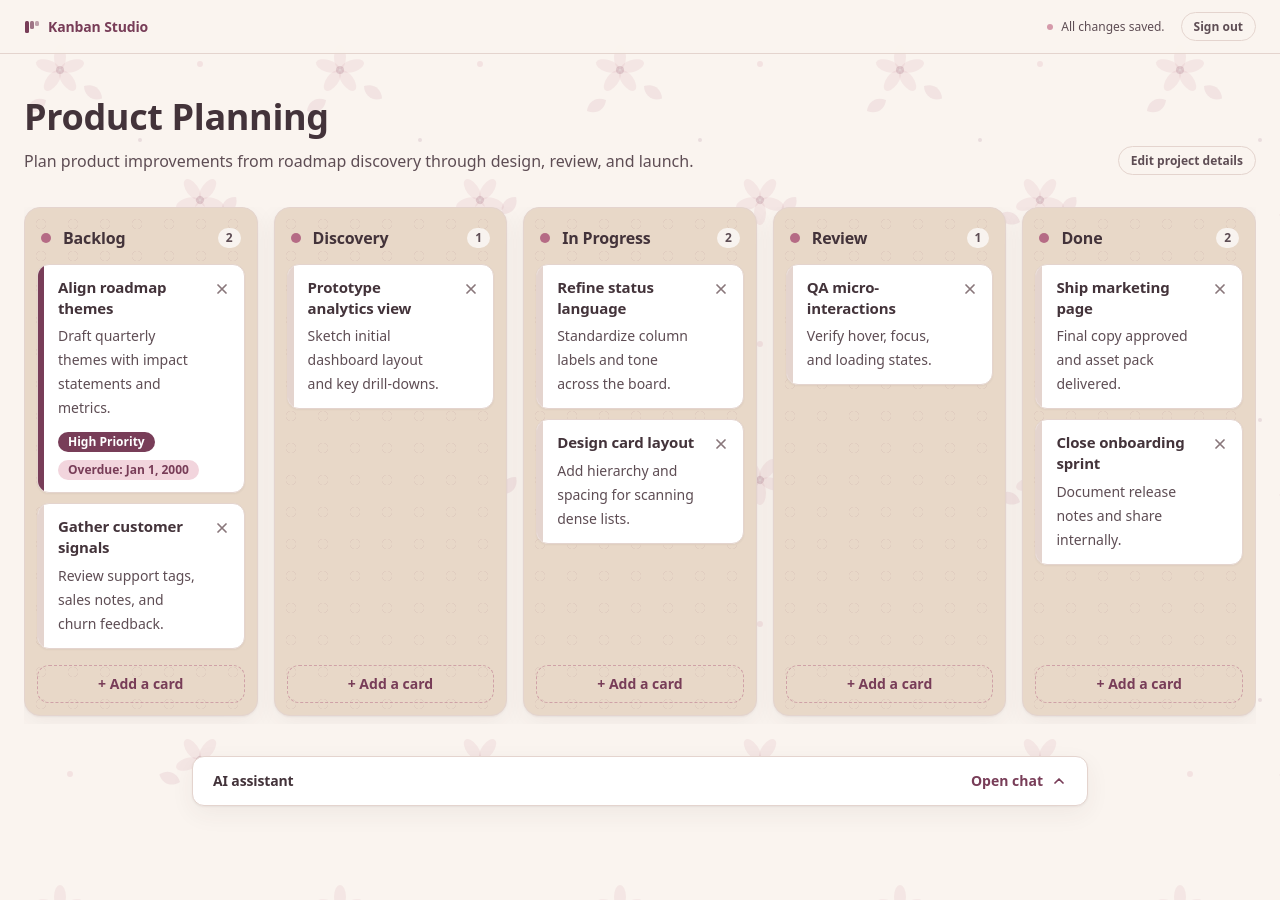
Test: KanbanBoard › edits card priority and due date and marks past dates overdue
Check: the text "Overdue: Jan 1, 2000" is shown, box [58, 460, 199, 480]
Click the button with aria-label "Edit title: Align roadmap themes" at (129, 298), box [58, 277, 200, 318]
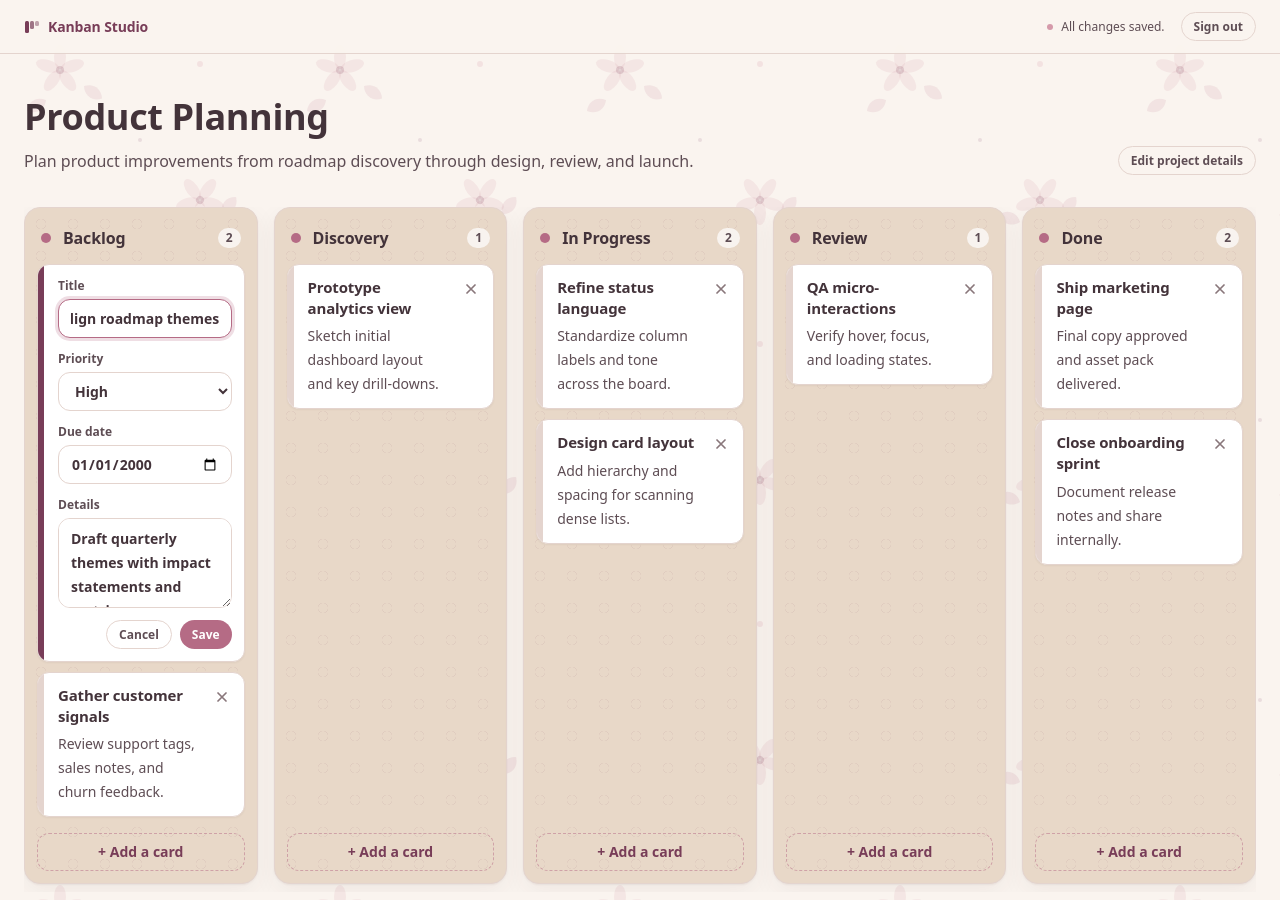
Select "Medium" in the dropdown named "Card priority" at (145, 392), box [58, 372, 232, 411]
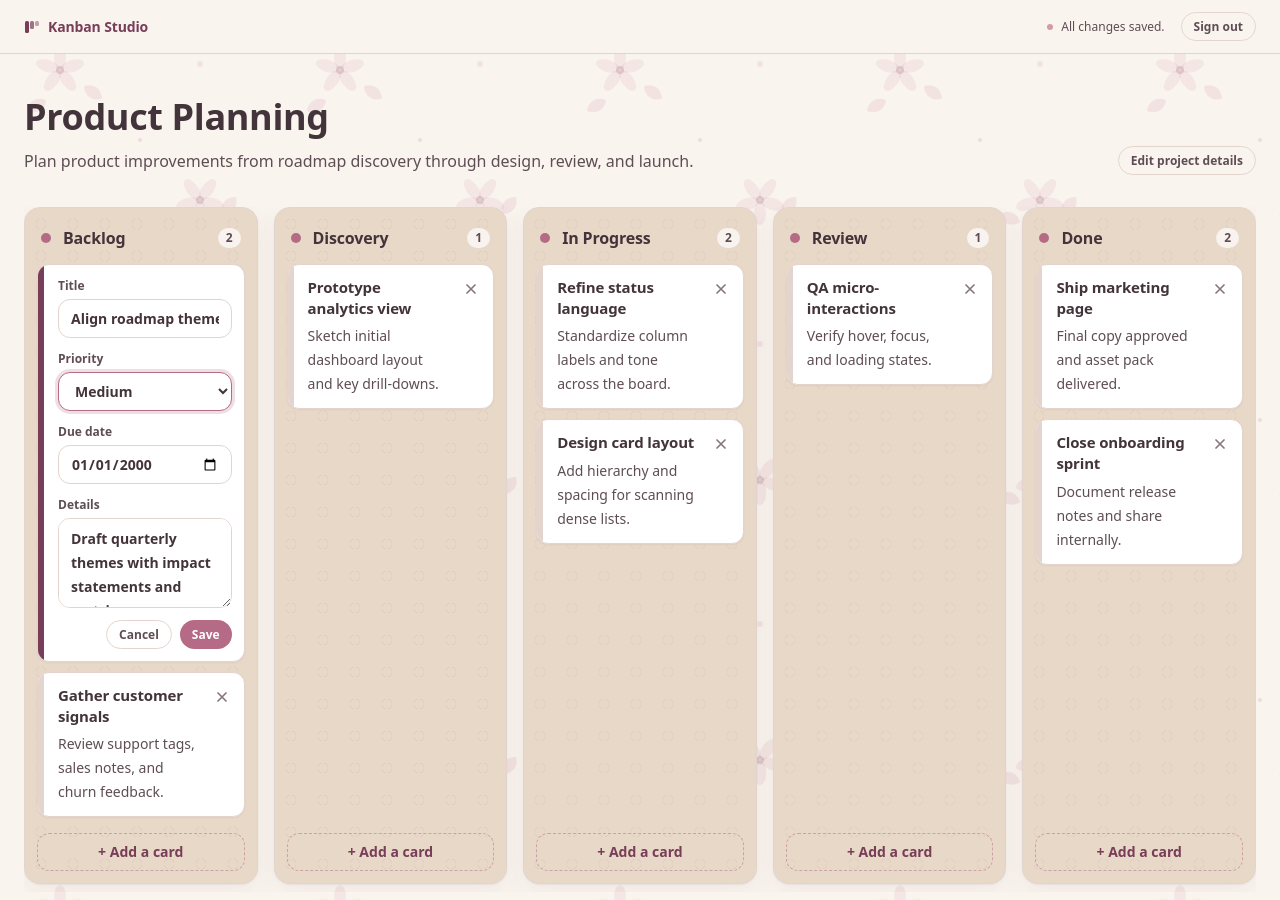
Type "2099-03-12" into the date field labelled "Due date" at (145, 464), box [58, 445, 232, 484]
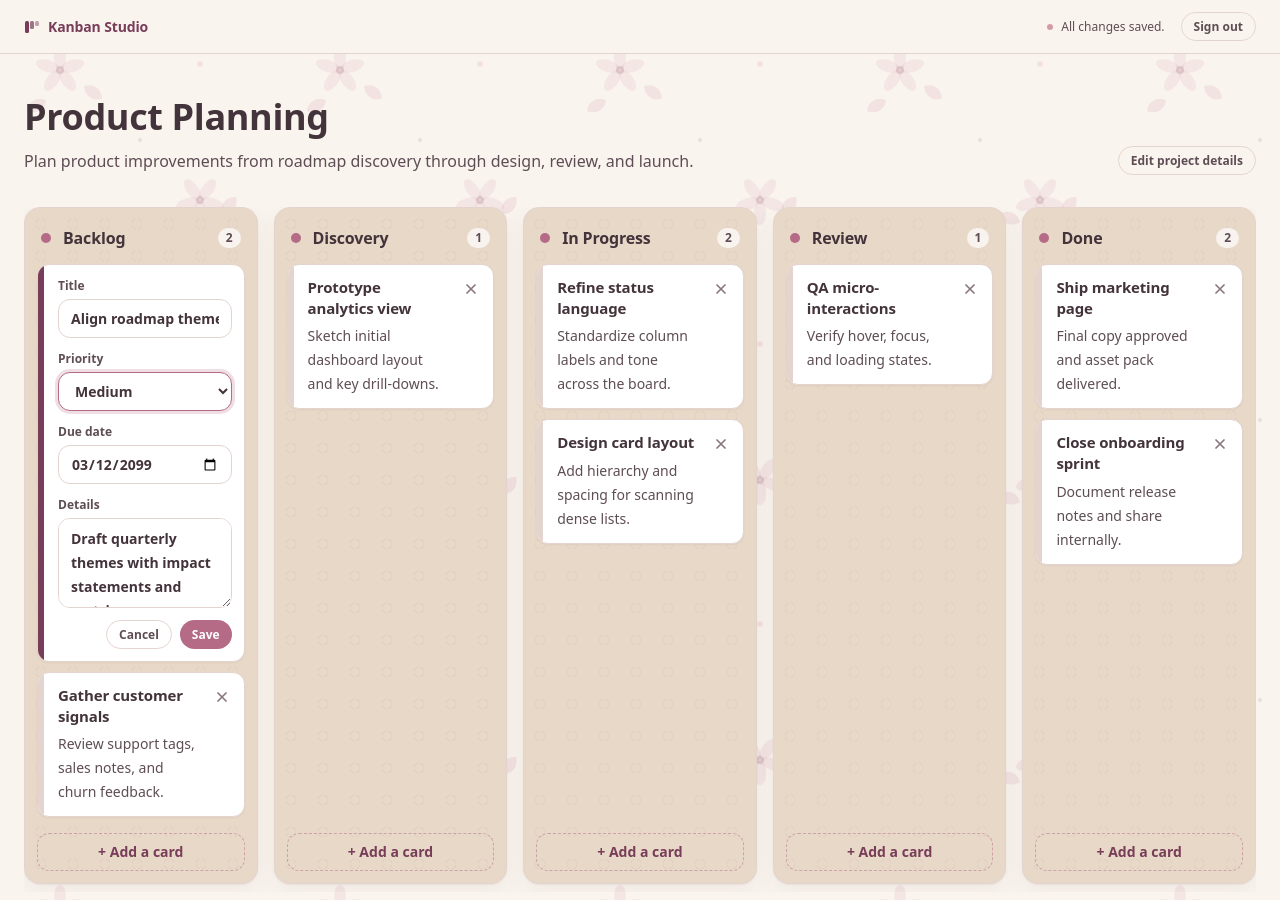
Click the button "Save" at (206, 634), box [180, 620, 232, 649]
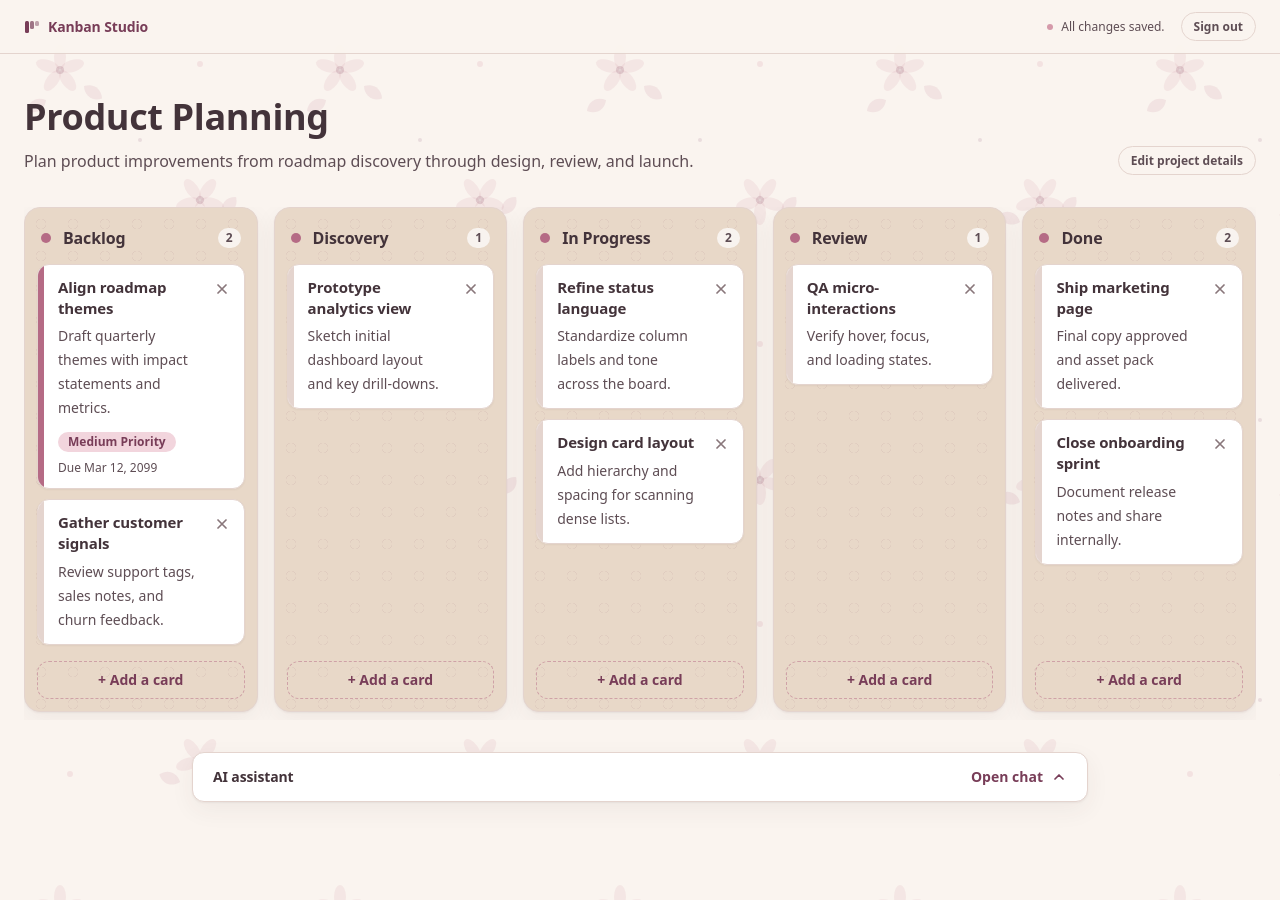
Check: the text "medium priority" is shown, box [58, 432, 176, 452]
Check: the text "Due Mar 12, 2099" is shown, box [58, 460, 157, 476]
